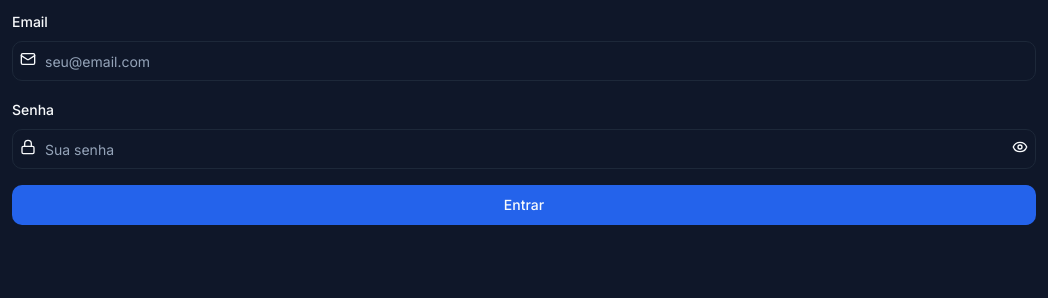
Test: LoginForm Component › Tratamento de Erros › deve mostrar erro de email não confirmado e botão de reenvio
Type "test@example.com" into the field labelled "Email" at (524, 61), box x1=12 y1=41 x2=1036 y2=81
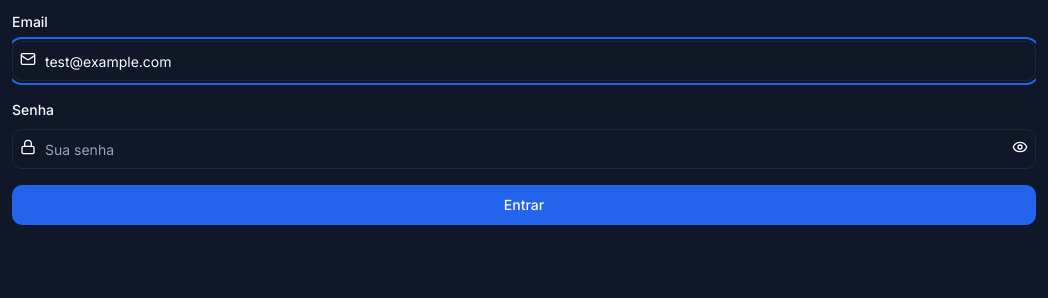
Type "password123" into the password field labelled "Senha" at (524, 149), box x1=12 y1=129 x2=1036 y2=169
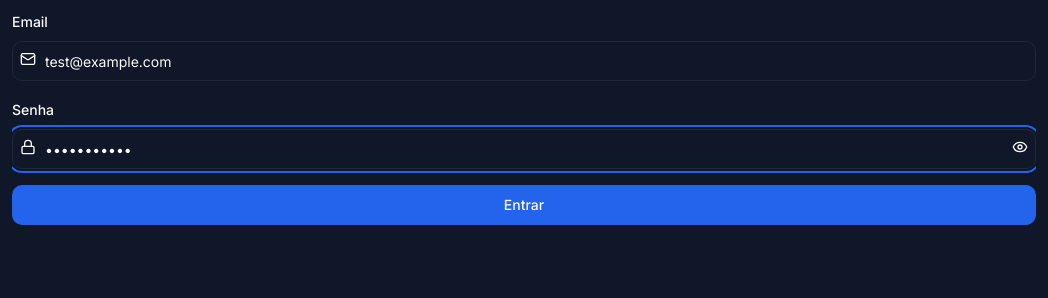
Click the button "Entrar" at (524, 205), box x1=12 y1=185 x2=1036 y2=225
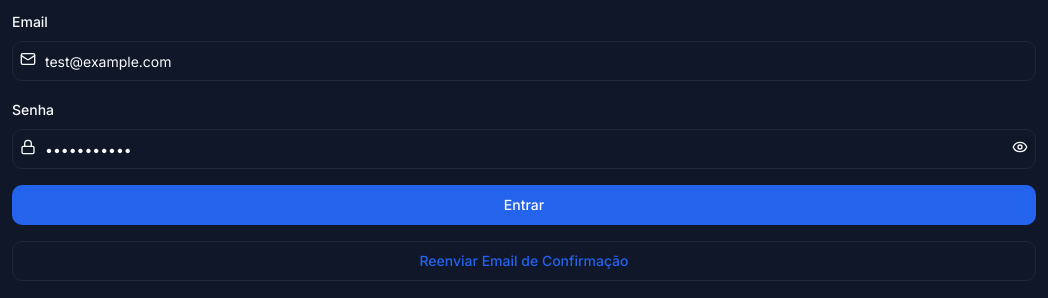
Check: the button "Reenviar Email de Confirmação" is shown, box x1=12 y1=241 x2=1036 y2=281
